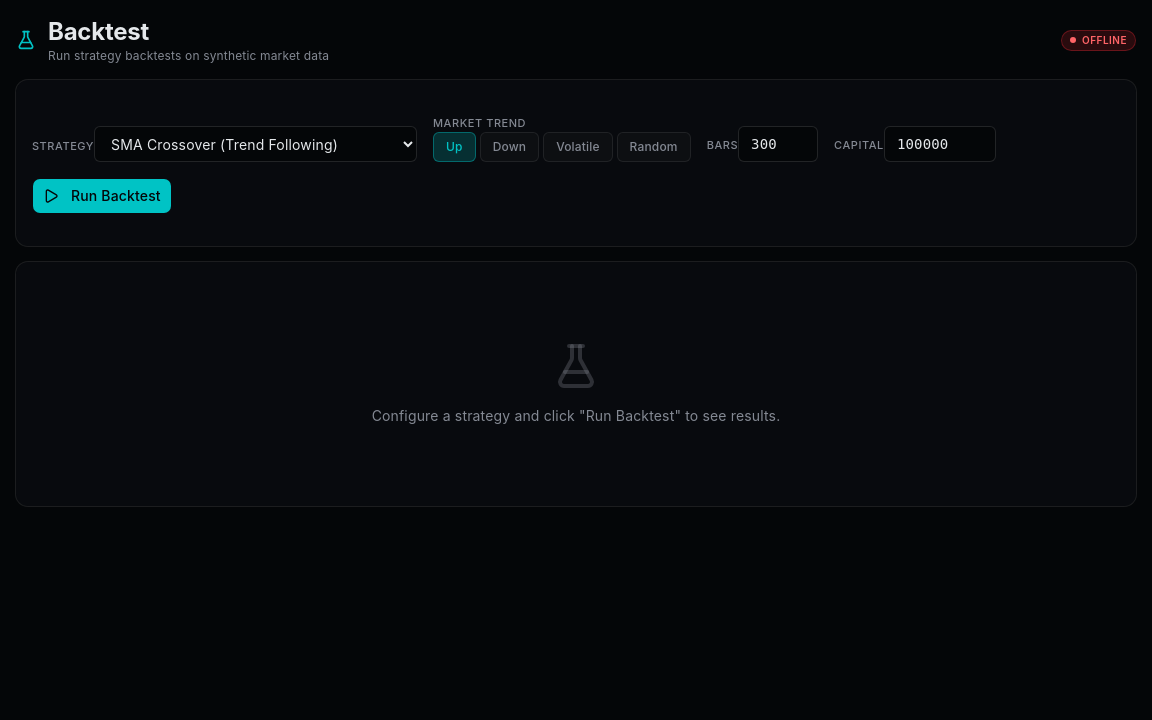
BacktestPage › shows Simulated badge after fallback run
This screenshot has width=1152, height=720.
Click the button "Run Backtest".
click(102, 196)  # box [32,178,172,214]
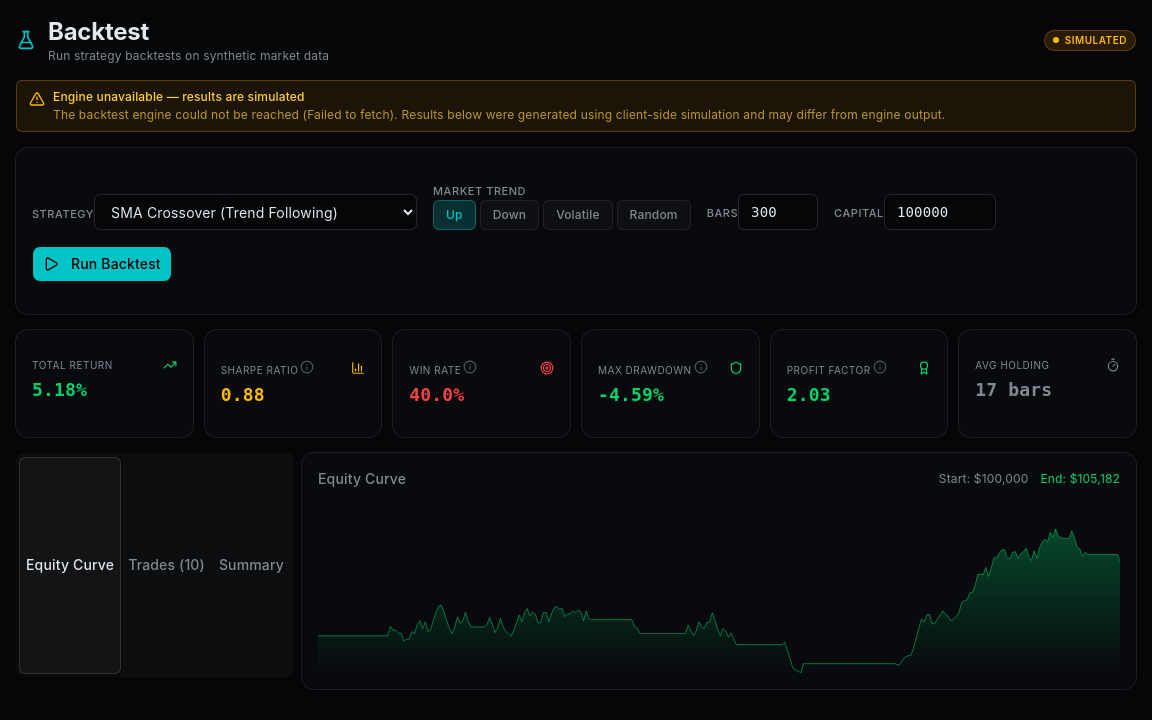
Expected: the text "Total Return" is shown, [32,358,113,372]
